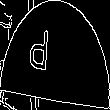P_S: (43, 28, 67, 82)
